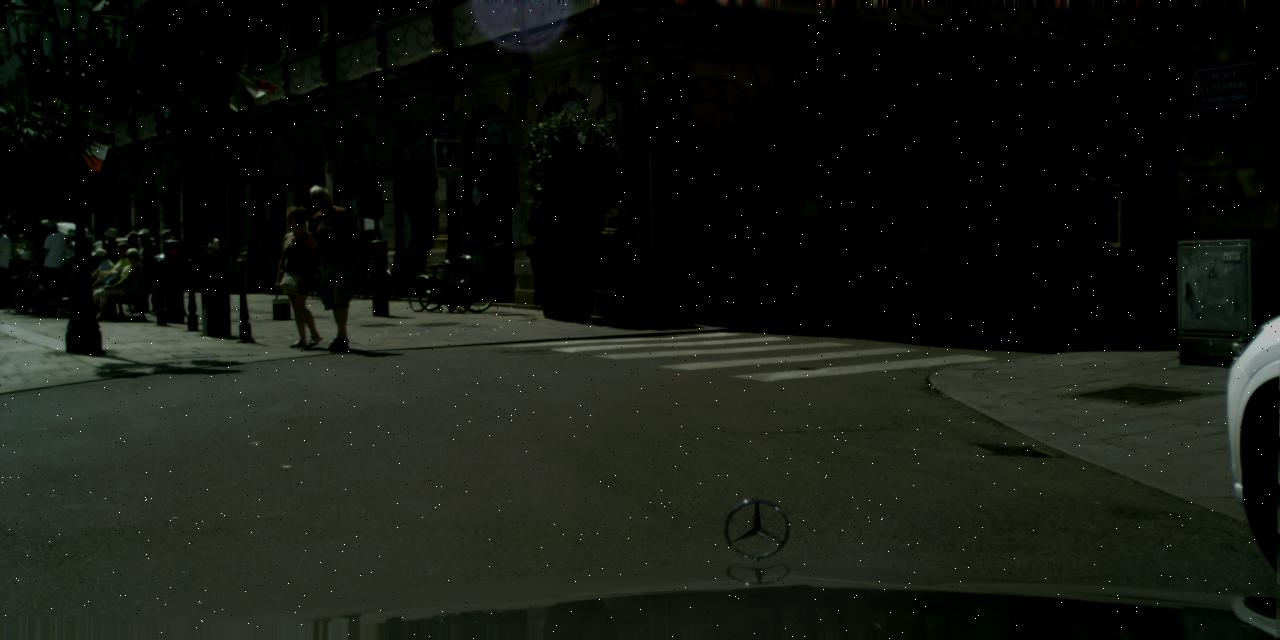ped: (294, 184, 362, 350), (271, 205, 328, 346), (153, 228, 188, 315), (93, 227, 128, 312), (32, 221, 67, 306), (127, 227, 162, 312), (117, 232, 150, 312), (0, 225, 17, 308), (199, 233, 221, 288)
